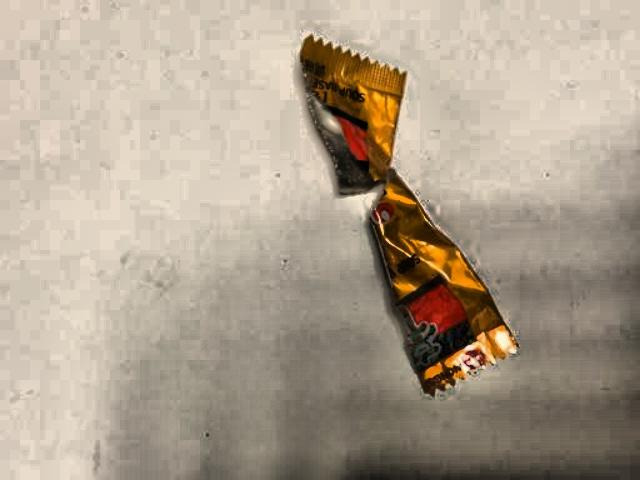Plastic: (284, 26, 527, 413)
